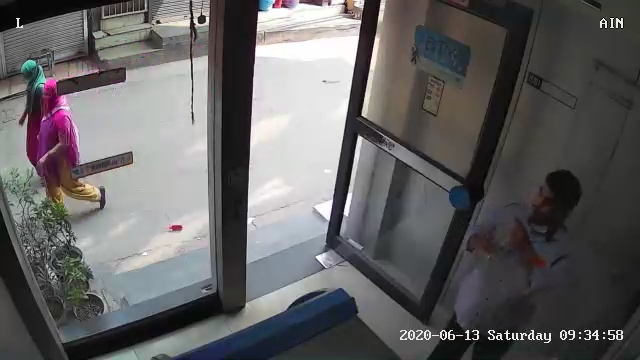open: (194, 3, 557, 340)
